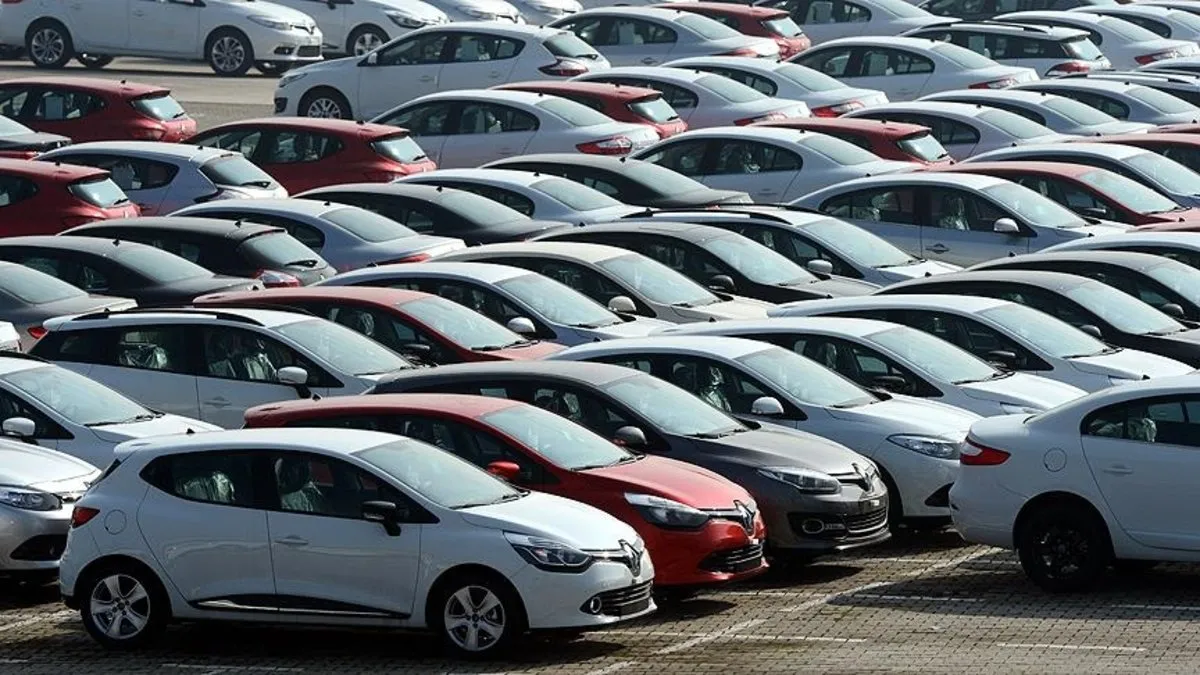Car: (59, 429, 656, 656), (355, 360, 890, 566), (243, 394, 767, 597), (537, 335, 984, 530), (949, 373, 1200, 590), (31, 308, 430, 430), (645, 318, 1085, 416), (765, 295, 1196, 392), (273, 22, 612, 120), (868, 270, 1200, 368), (790, 172, 1131, 266), (308, 262, 677, 346), (525, 221, 883, 304), (194, 286, 569, 365), (425, 242, 778, 324), (626, 205, 964, 286), (0, 353, 231, 469), (0, 0, 323, 76), (626, 126, 925, 204), (367, 90, 659, 169), (165, 198, 466, 272), (55, 217, 336, 290), (181, 117, 438, 193), (30, 142, 288, 215), (289, 183, 573, 249), (0, 236, 265, 306), (923, 163, 1200, 226), (963, 251, 1200, 324), (781, 36, 1039, 101), (954, 143, 1200, 208), (480, 154, 753, 210), (568, 67, 811, 129), (0, 438, 103, 583), (389, 169, 653, 225), (837, 101, 1079, 161), (543, 7, 781, 66), (656, 57, 890, 117), (0, 77, 198, 143), (0, 261, 139, 352), (988, 11, 1200, 70), (893, 22, 1110, 79), (913, 88, 1153, 137), (482, 81, 689, 137), (0, 158, 142, 237), (744, 117, 956, 167), (267, 0, 451, 56), (1001, 78, 1200, 126), (752, 0, 964, 44), (651, 2, 813, 59), (1031, 232, 1200, 271), (1052, 67, 1200, 108), (1069, 133, 1200, 174), (1070, 5, 1200, 44), (917, 0, 1134, 21), (0, 115, 72, 160), (422, 0, 527, 24), (504, 0, 582, 25), (1129, 55, 1200, 76), (1136, 0, 1200, 17), (1129, 218, 1200, 232), (580, 0, 700, 8), (0, 321, 23, 352), (1147, 123, 1200, 135)
